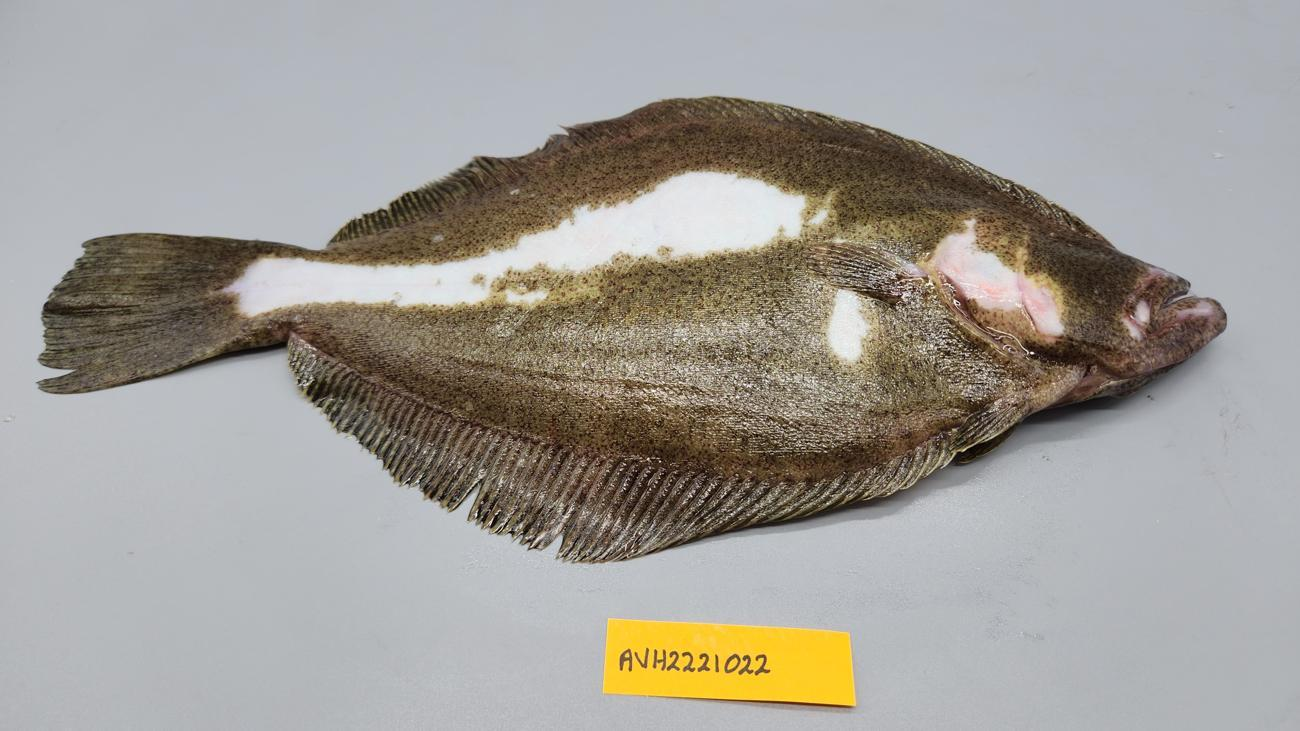VIOUY: (29, 95, 1230, 567)
